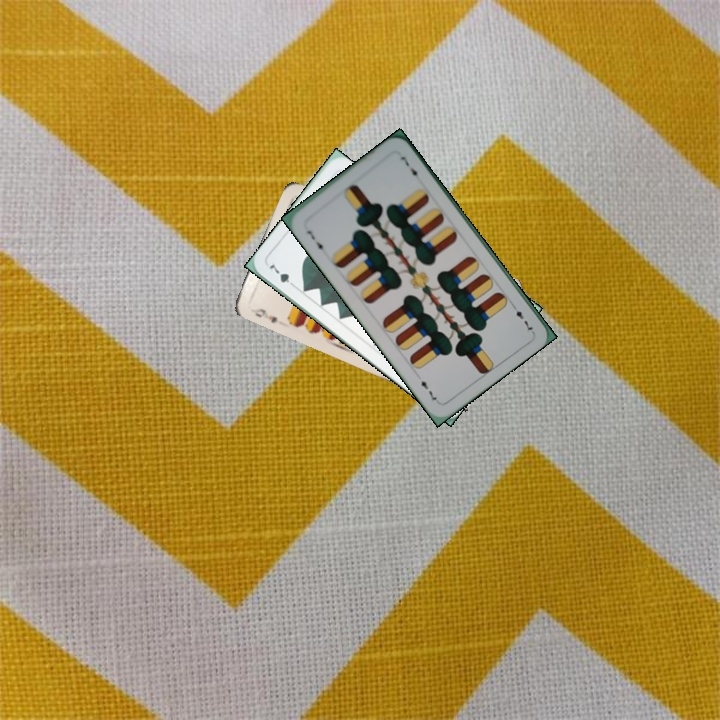E7: (507, 299, 536, 335), (303, 226, 328, 255)
E9: (246, 304, 280, 326)
G7: (265, 261, 299, 289)
